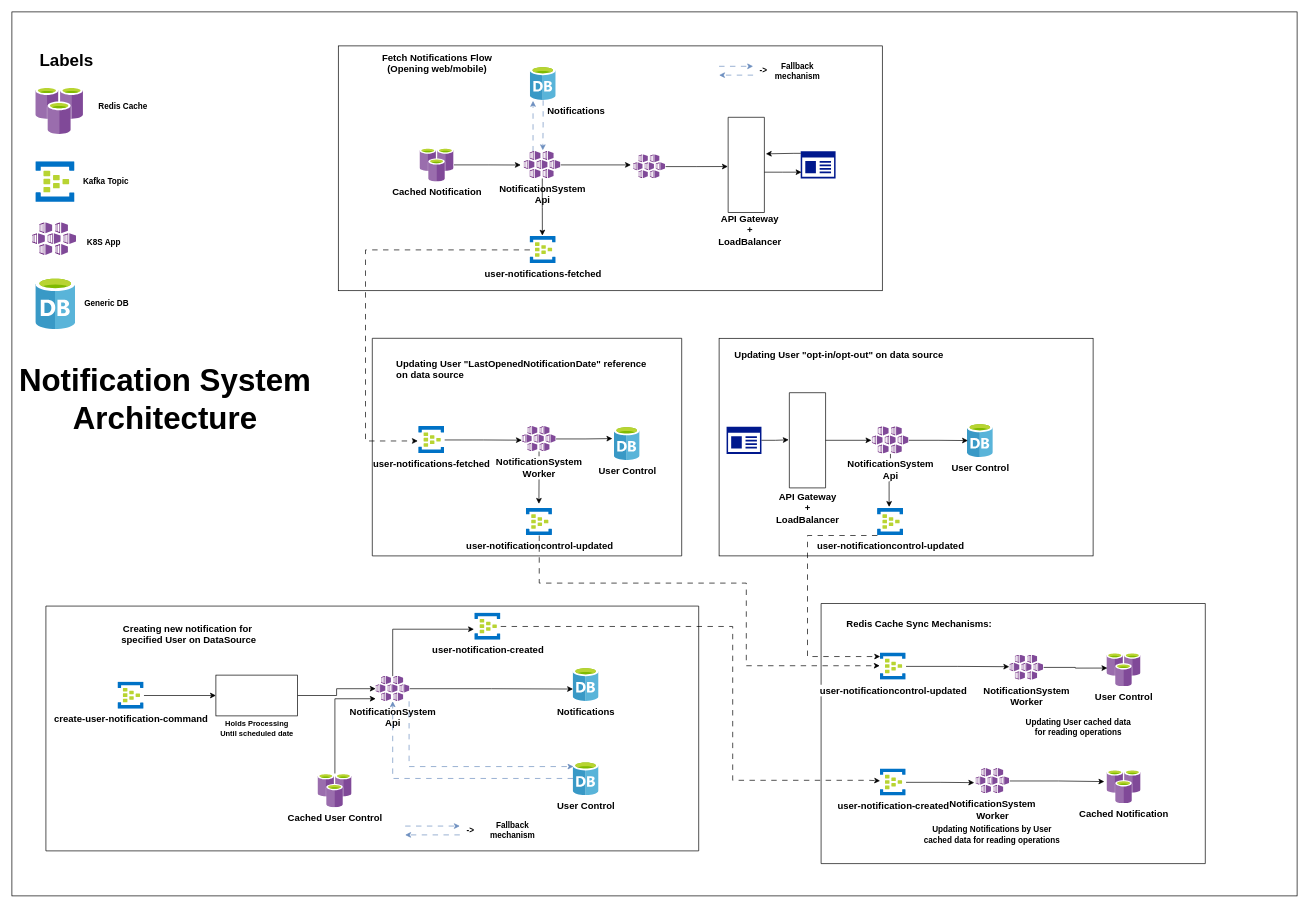
This 1309x908 diagram has some shape labels left out. Each missing label, with the centre of its shape:
"NotificationSystem Bff (Web)" belongs at pixel 649 166.
"Schedule Mechanism" belongs at pixel 256 695.
